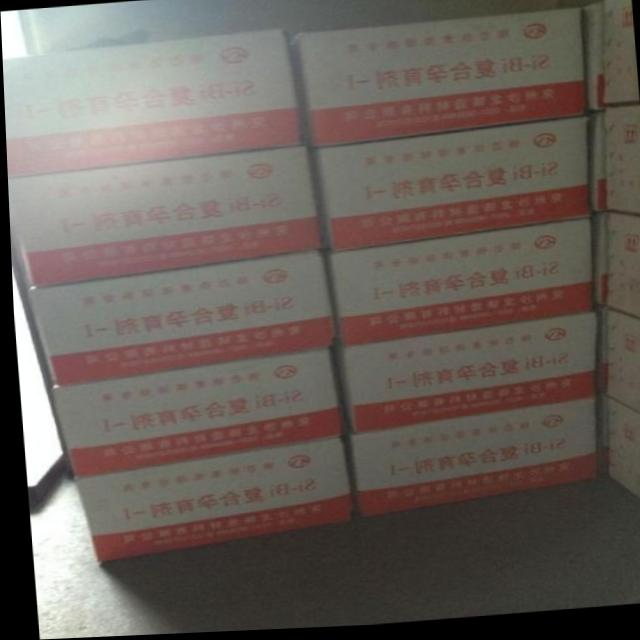box: (2, 32, 303, 178), (6, 150, 320, 287), (287, 14, 582, 153), (24, 254, 332, 387), (47, 351, 342, 478), (312, 125, 589, 252), (326, 224, 590, 354), (69, 440, 346, 561), (332, 320, 593, 435), (339, 404, 594, 521), (599, 113, 640, 224), (600, 401, 640, 512), (599, 0, 638, 112), (600, 316, 640, 422), (602, 218, 640, 328), (582, 3, 602, 120), (582, 115, 602, 227), (588, 219, 600, 318)
